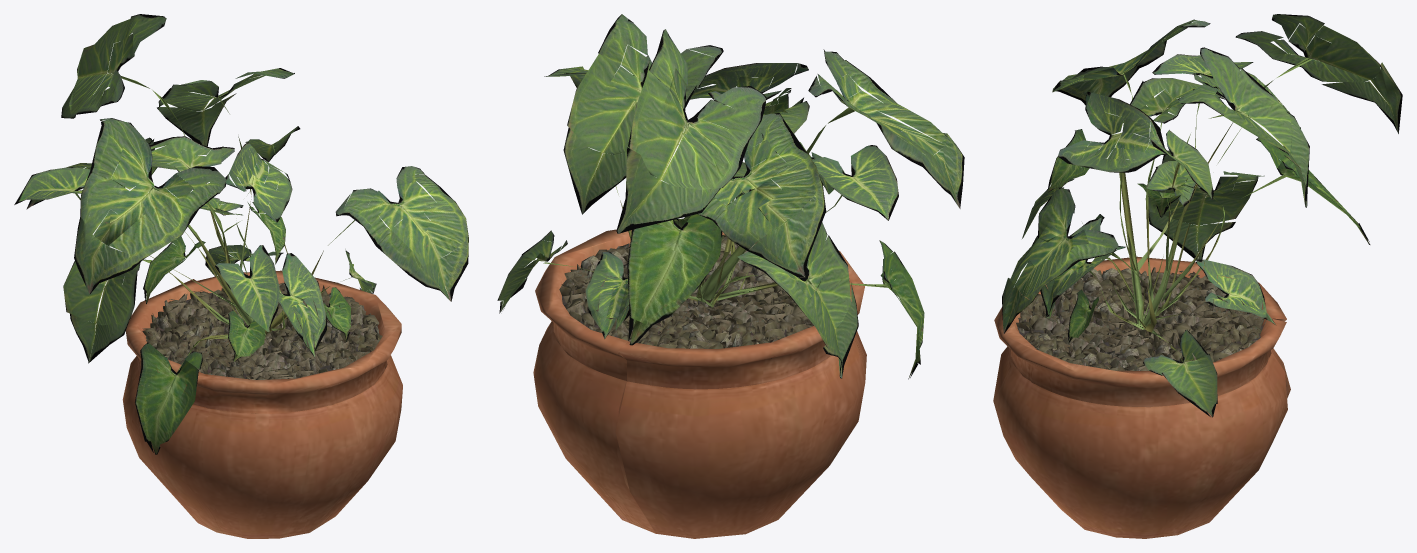
Rendered from potted_plant_02.glb.
3 renders of one model, left to right at view 1: azimuth 30°, elevation 25°; view 2: azimuth 150°, elevation 25°; view 3: azimuth 270°, elevation 25°, orthographic. The views are drawn at different scales.
Visible parts, largest first — view 1: potted_plant_02_leaves, potted_plant_02_pot, potted_plant_02_dirt; view 2: potted_plant_02_leaves, potted_plant_02_pot, potted_plant_02_dirt; view 3: potted_plant_02_leaves, potted_plant_02_pot, potted_plant_02_dirt.
Boxes of the visible parts, x1,y1,x2,y2 form: potted_plant_02_leaves: (14, 14, 468, 454); potted_plant_02_pot: (122, 270, 402, 538); potted_plant_02_dirt: (142, 283, 382, 379); potted_plant_02_leaves: (497, 14, 964, 379); potted_plant_02_pot: (533, 224, 866, 538); potted_plant_02_dirt: (559, 235, 825, 358); potted_plant_02_leaves: (1002, 14, 1402, 417); potted_plant_02_pot: (993, 256, 1290, 538); potted_plant_02_dirt: (1016, 267, 1266, 370).
Size of the model in its own units: 0.7009 by 0.8419 by 0.6578.
2 materials, 2 textured.
